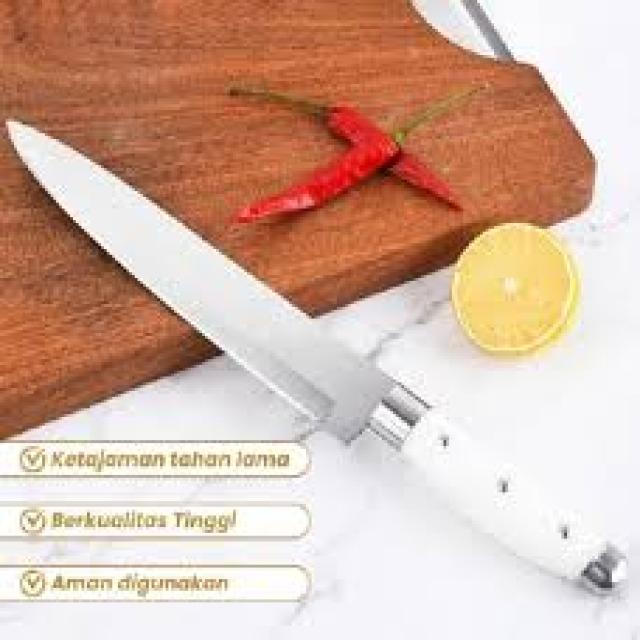Knife: (6, 119, 626, 597)
